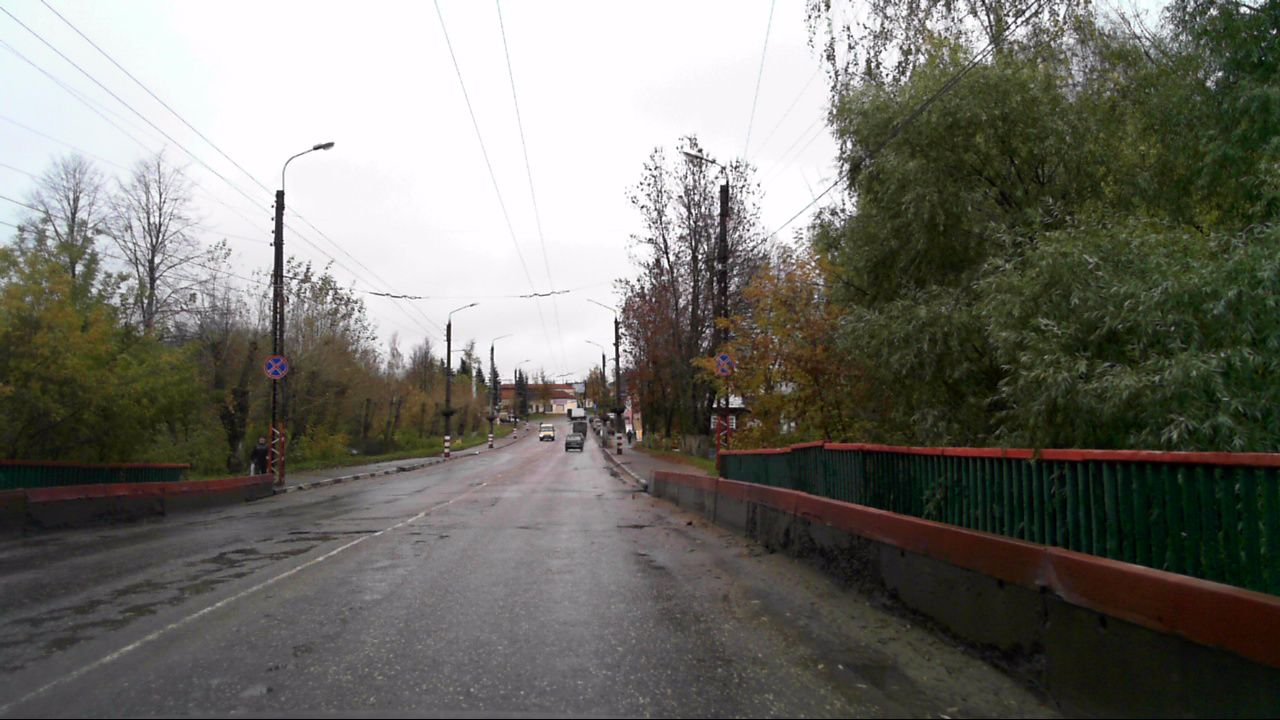No Parking: (709, 351, 733, 377)
